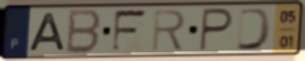A: (27, 11, 68, 53)
B: (63, 8, 103, 56)
D: (235, 7, 274, 52)
F: (110, 7, 150, 55)
P: (197, 6, 235, 53)
R: (150, 8, 188, 53)
